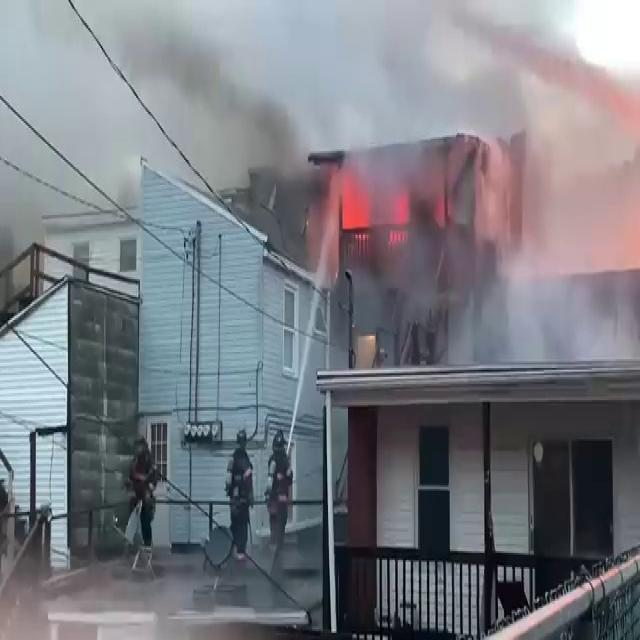Smoke: (326, 7, 639, 356), (82, 5, 414, 271)
